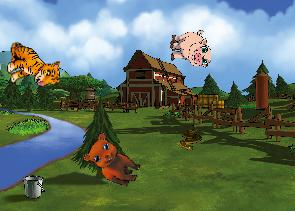bear: (79, 129, 148, 190)
pig: (169, 30, 211, 68)
tiger: (6, 42, 60, 87)
